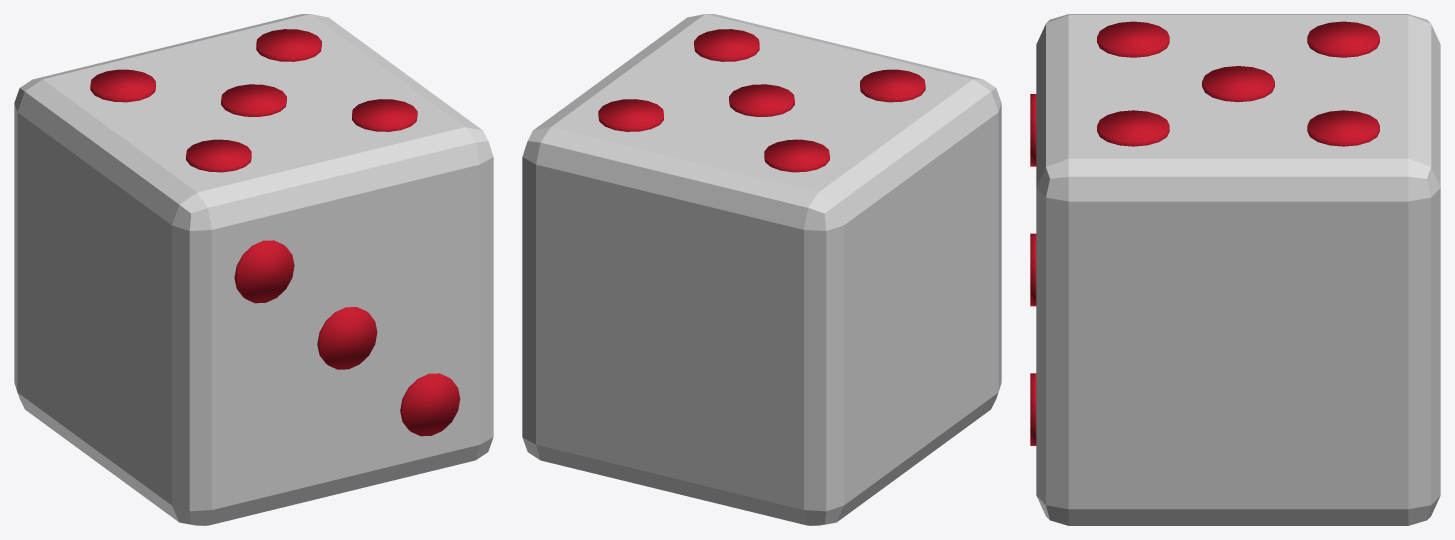
File: Dice.fbx
3 views of the same model, side by side, from view 1: azimuth 30°, elevation 25°; view 2: azimuth 150°, elevation 25°; view 3: azimuth 270°, elevation 25° (orthographic). The views are drawn at different scales.
Parts seen in each view (by area): view 1: White_Cube, Pip_PipF0, Pip_PipF2, Pip_PipF1, Pip_PipT0, Pip_PipT2, Pip_PipT3, Pip_PipT4, Pip_PipT1; view 2: White_Cube, Pip_PipT3, Pip_PipT0, Pip_PipT1, Pip_PipT2, Pip_PipT4; view 3: White_Cube, Pip_PipT4, Pip_PipT0, Pip_PipT1, Pip_PipT3, Pip_PipT2, Pip_PipF1, Pip_PipF0, Pip_PipF2.
Part boxes in pixels (x1,y1,x2,y2): White_Cube: (14, 14, 493, 525); Pip_PipF0: (234, 240, 294, 303); Pip_PipF2: (400, 373, 460, 436); Pip_PipF1: (317, 307, 377, 369); Pip_PipT0: (90, 69, 155, 102); Pip_PipT2: (221, 84, 286, 116); Pip_PipT3: (186, 139, 251, 172); Pip_PipT4: (352, 99, 417, 131); Pip_PipT1: (256, 29, 321, 61); White_Cube: (522, 14, 1001, 525); Pip_PipT3: (860, 69, 925, 102); Pip_PipT0: (764, 139, 829, 172); Pip_PipT1: (598, 99, 663, 131); Pip_PipT2: (729, 84, 794, 116); Pip_PipT4: (694, 29, 759, 61); White_Cube: (1036, 14, 1440, 525); Pip_PipT4: (1097, 110, 1169, 146); Pip_PipT0: (1307, 21, 1379, 57); Pip_PipT1: (1307, 110, 1379, 146); Pip_PipT3: (1097, 21, 1169, 57); Pip_PipT2: (1202, 66, 1274, 102); Pip_PipF1: (1030, 233, 1036, 306); Pip_PipF0: (1030, 94, 1036, 166); Pip_PipF2: (1030, 373, 1036, 445).
Size of the model in its own units: 10 by 10.15 by 10.15.
